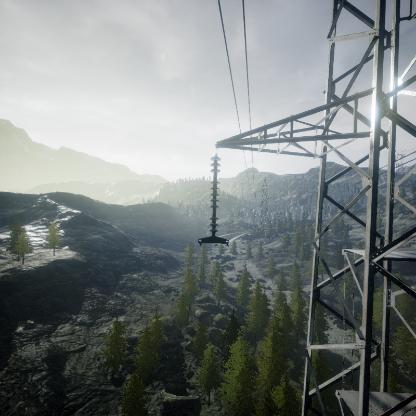insulator: (208, 153, 222, 236)
